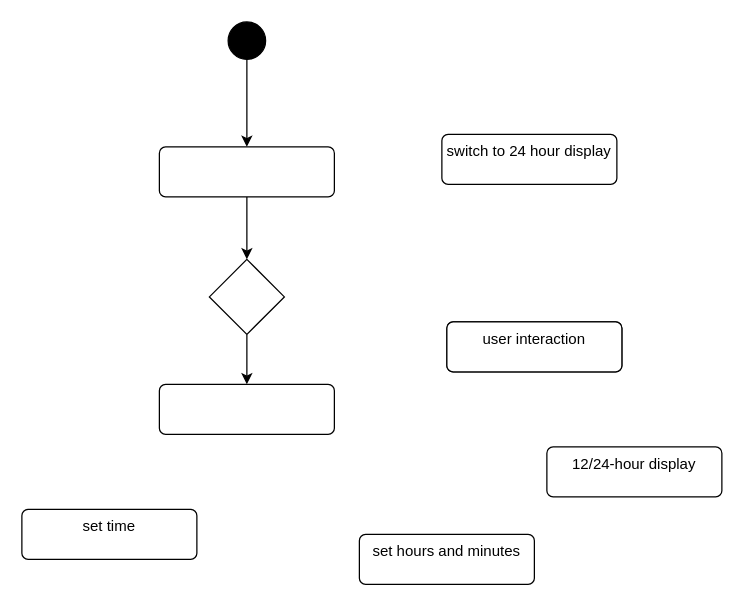
Image size: 744x606. Some labels were removed from this diagram. Here are the shapes that lost their labels. From the top down, the centre of each, then its label:
the point at 246,171: Display time
the point at 246,408: user presses button
